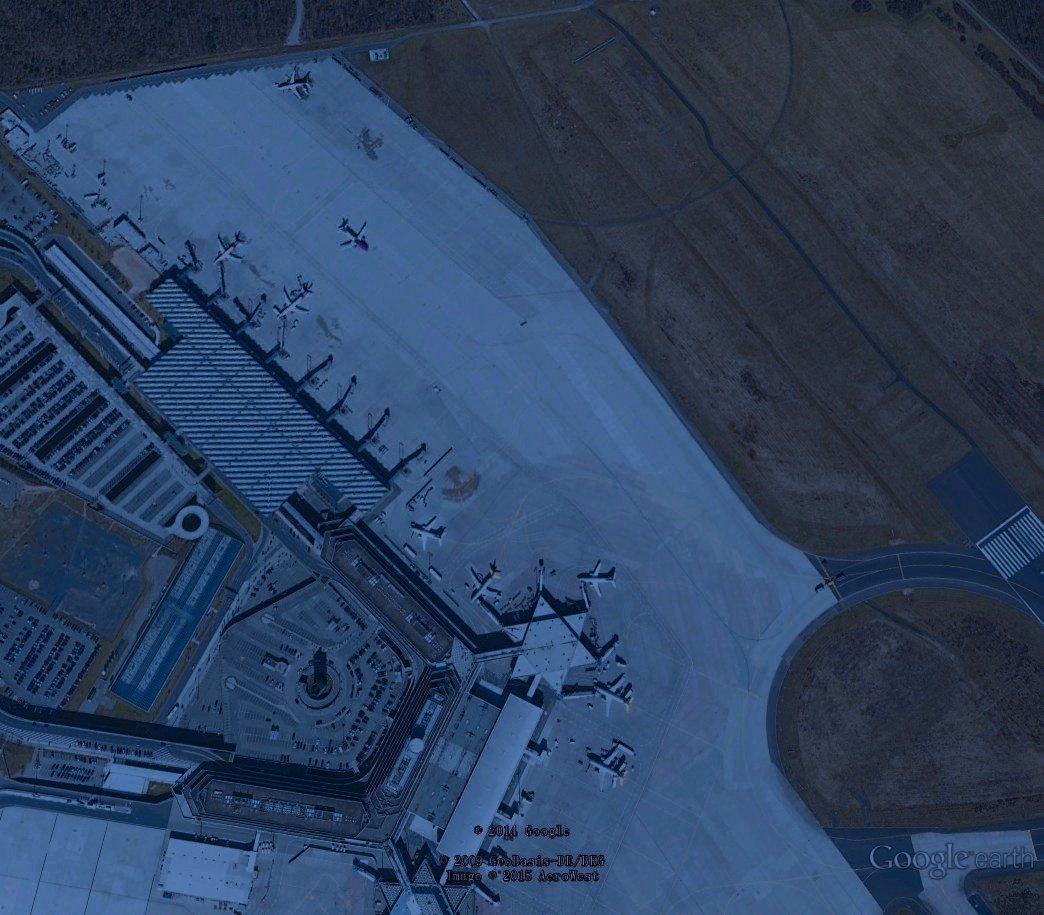aircraft: (583, 742, 633, 795), (574, 559, 624, 601), (594, 672, 636, 720), (465, 559, 507, 606), (408, 513, 447, 561), (277, 277, 318, 319), (274, 66, 315, 103), (337, 217, 370, 256), (214, 232, 247, 271)
